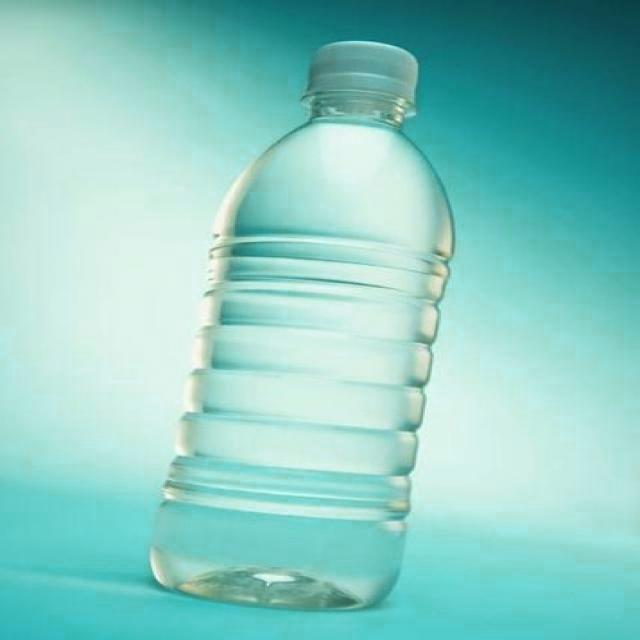bottle: (150, 40, 455, 612)
